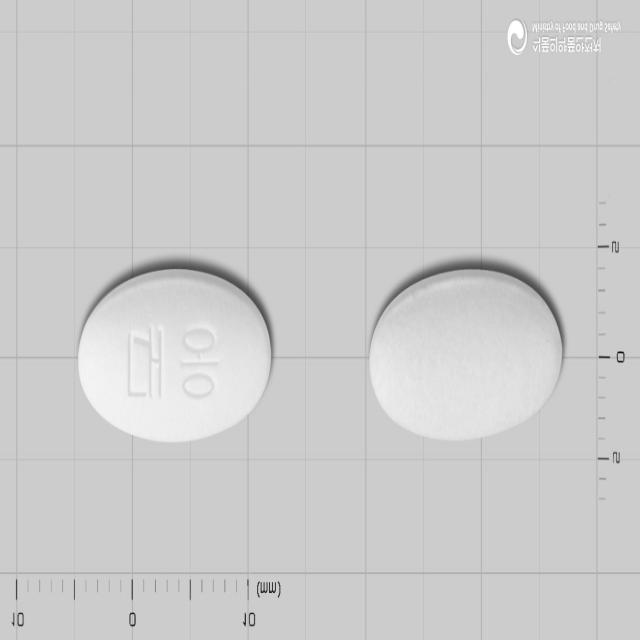Clao: (368, 265, 565, 443), (76, 266, 272, 441)
